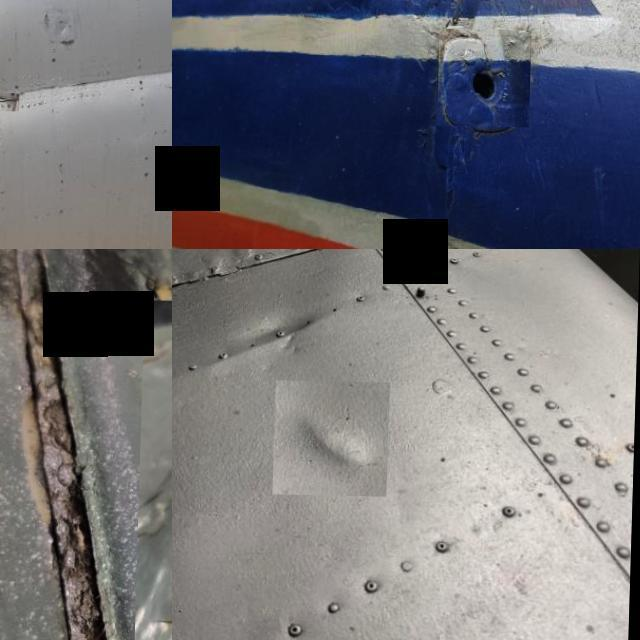Crack: (0, 90, 21, 109)
Dent: (275, 380, 391, 494), (226, 274, 340, 376)
Missing_Fastener: (438, 27, 534, 126)
